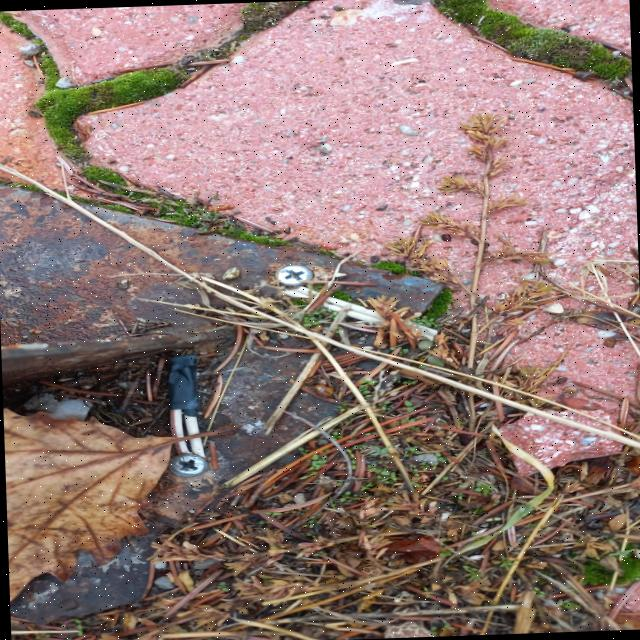Phillips: (162, 453, 217, 480), (268, 264, 318, 288)
